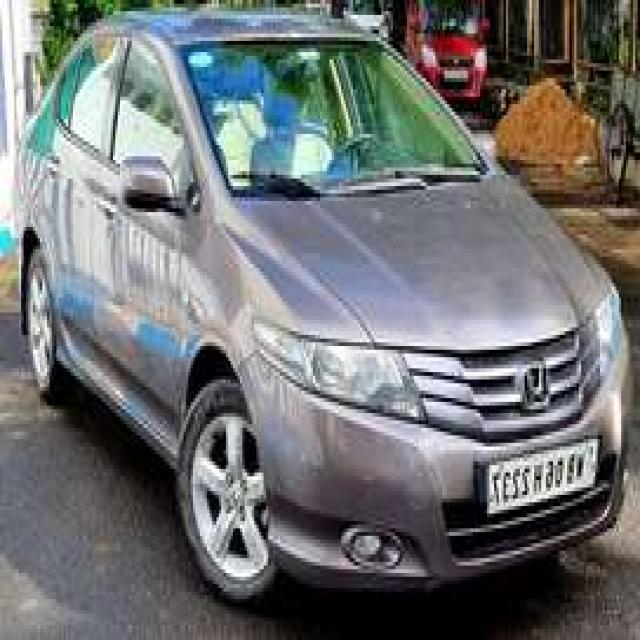license_plate: (477, 424, 602, 522)
